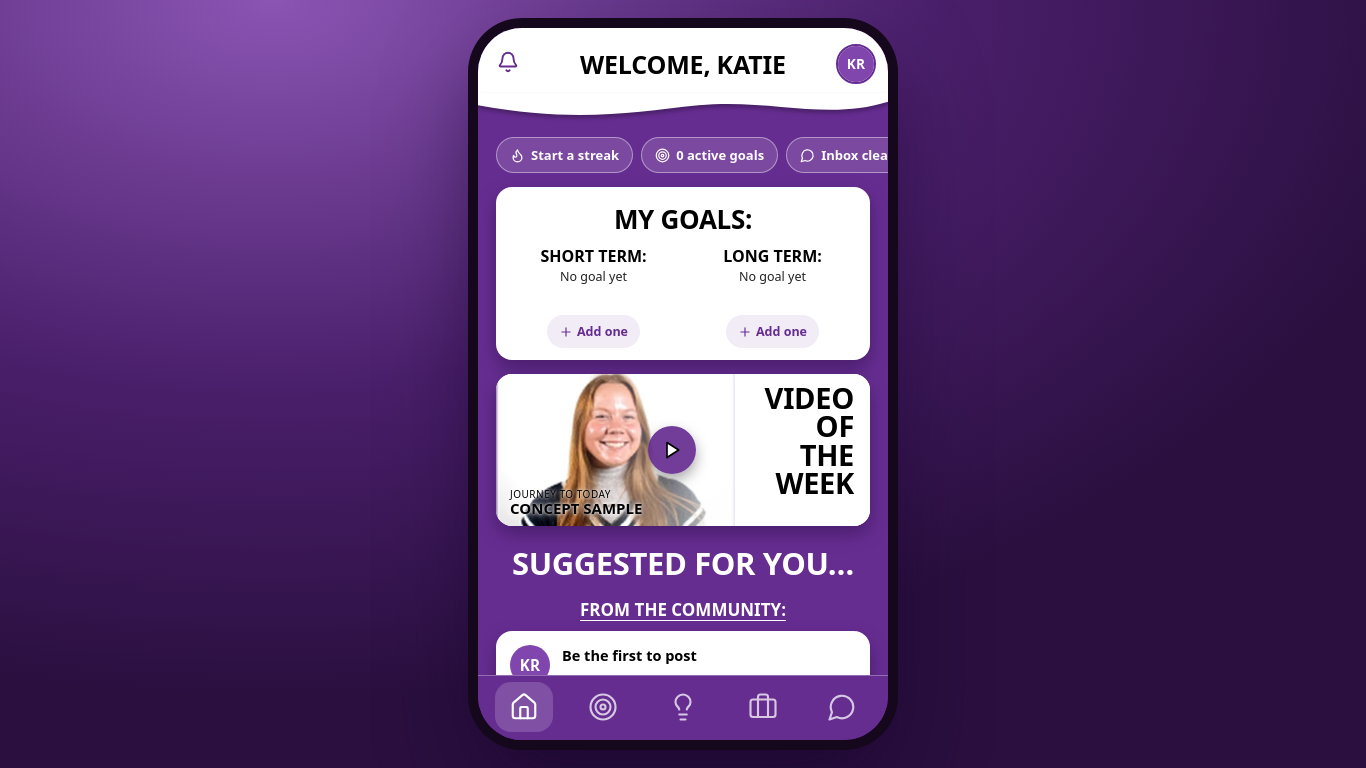
Scenario: mentors › lets an approved mentor accept an incoming request
This screenshot has width=1366, height=768.
Check: the heading "Welcome, Katie" is shown, box x1=580 y1=47 x2=786 y2=81
Click the button named "Connect".
click(842, 707)  # box x1=813 y1=682 x2=871 y2=732
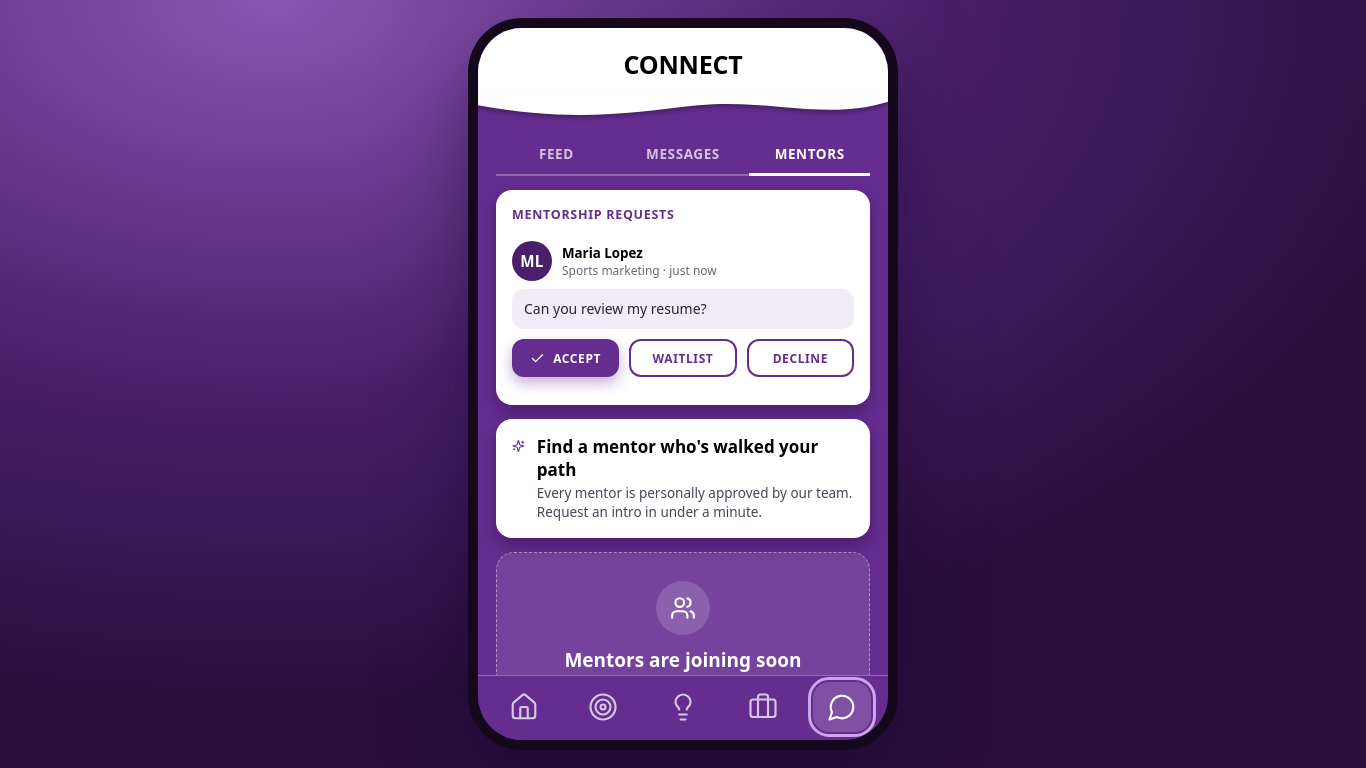
Click the tab "Mentors".
click(810, 156)  # box x1=749 y1=135 x2=870 y2=176
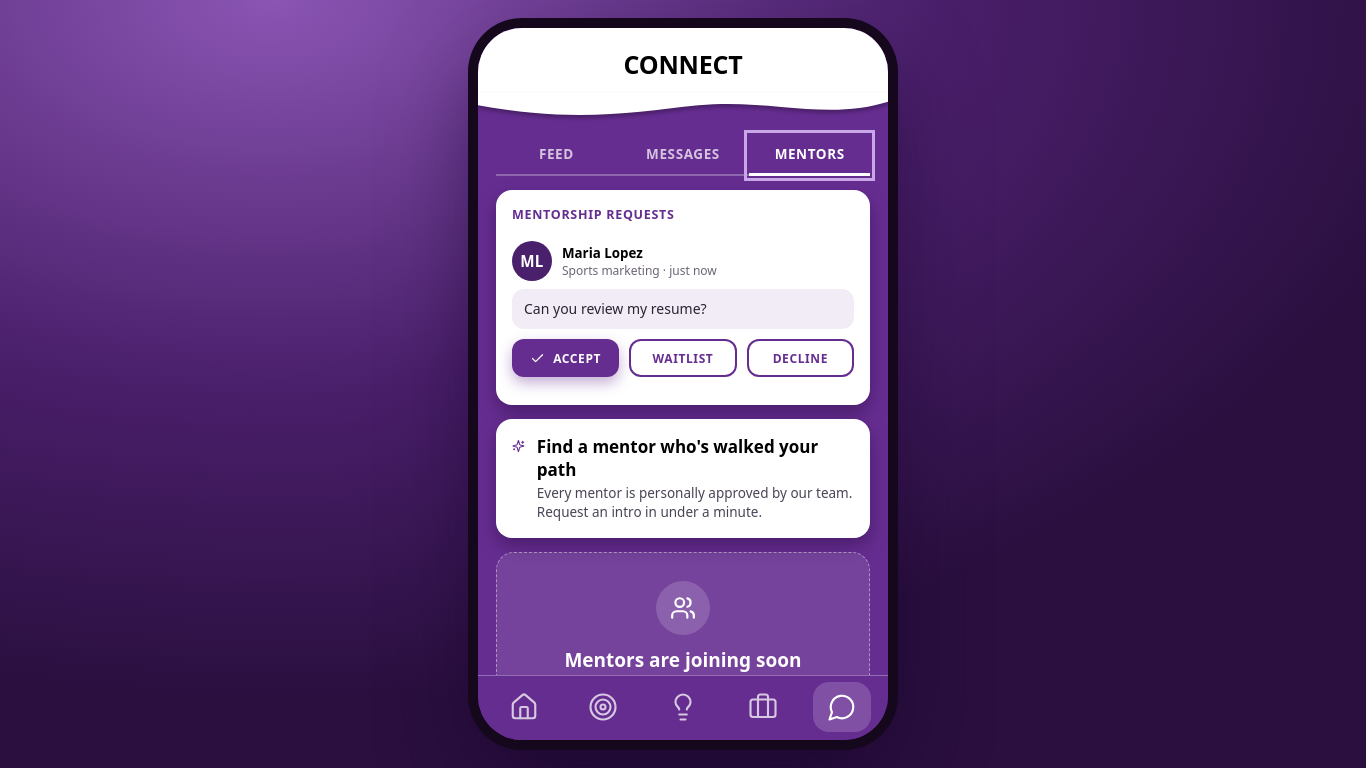
Check: the text "Can you review my resume?" is shown, box x1=512 y1=289 x2=854 y2=329
Click the button "Accept".
click(566, 358)  # box x1=512 y1=339 x2=619 y2=377
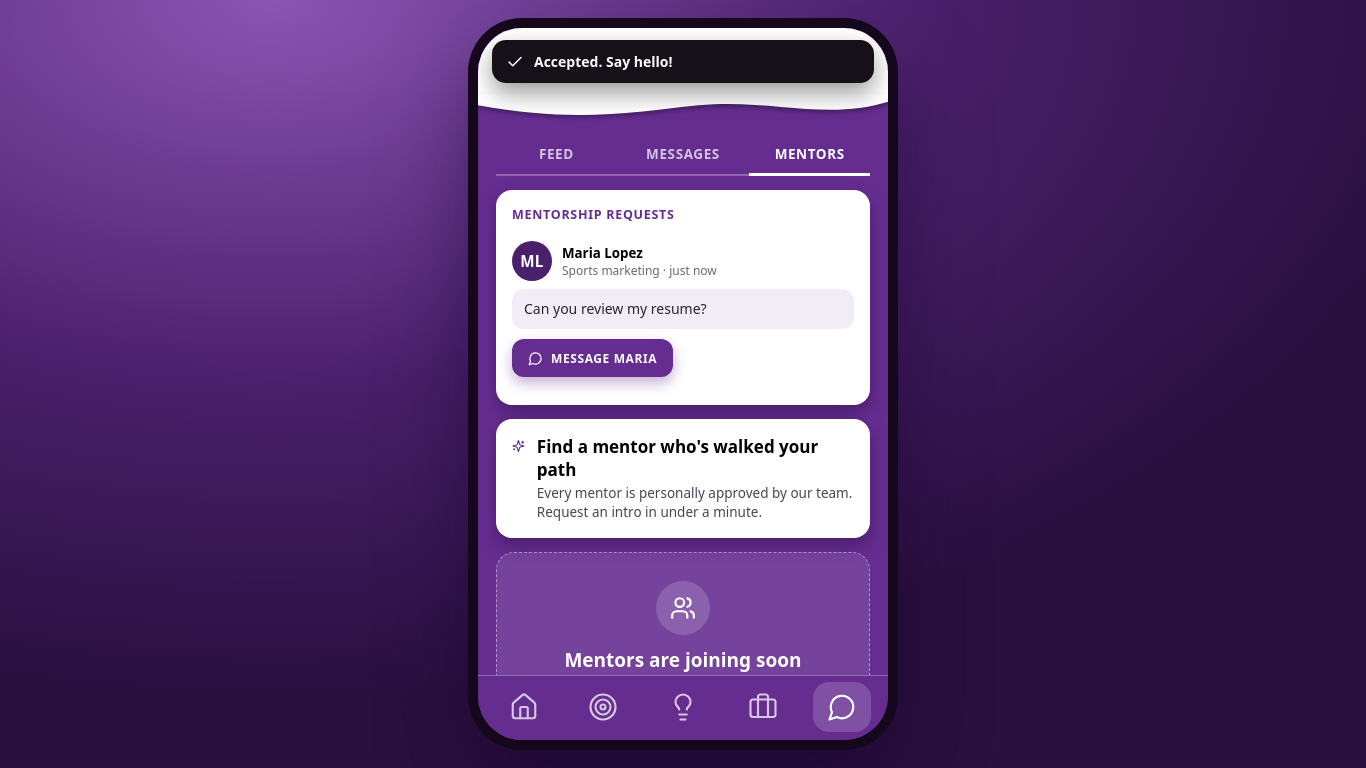
Check: the button "Message Maria" is shown, box x1=512 y1=339 x2=673 y2=377
